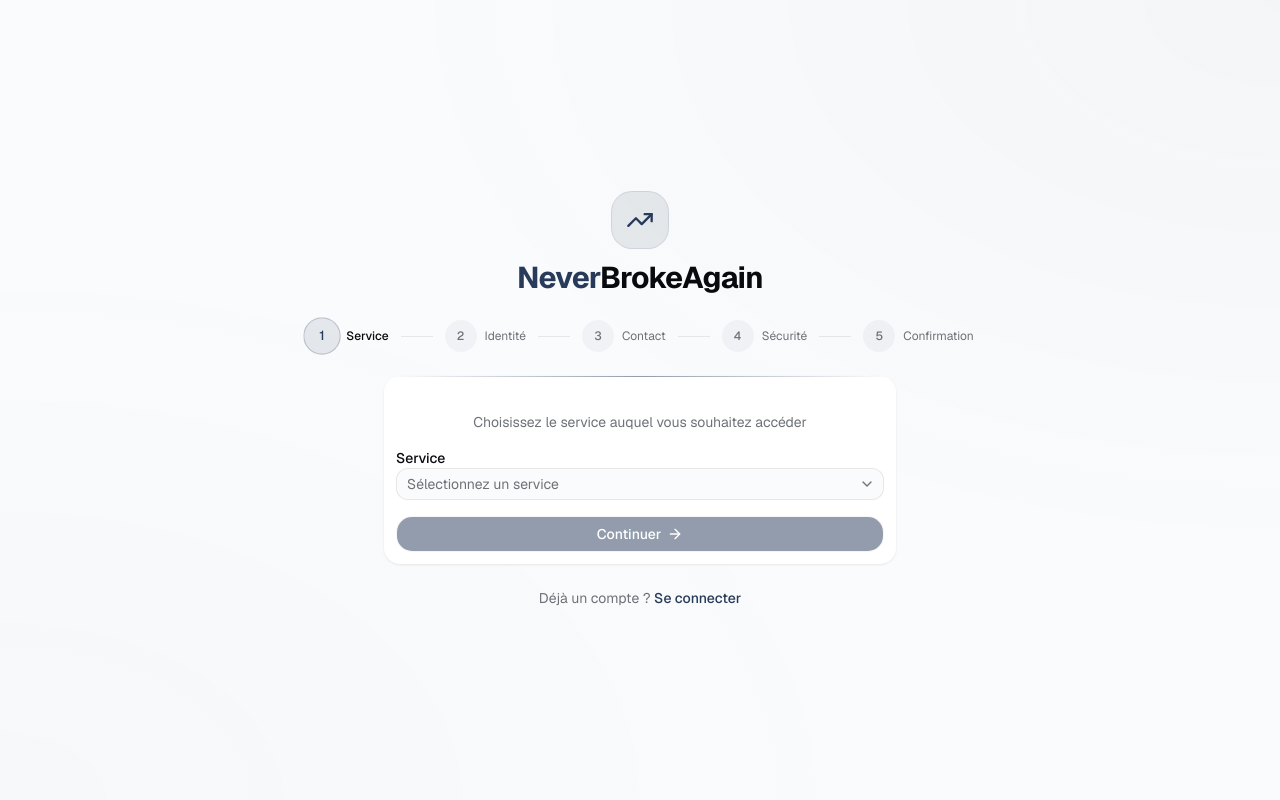
Scenario: Register Wizard › shows confirmation card when a plan is selected
Click the dropdown.
click(483, 484)  # box left=396, top=468, right=884, bottom=500
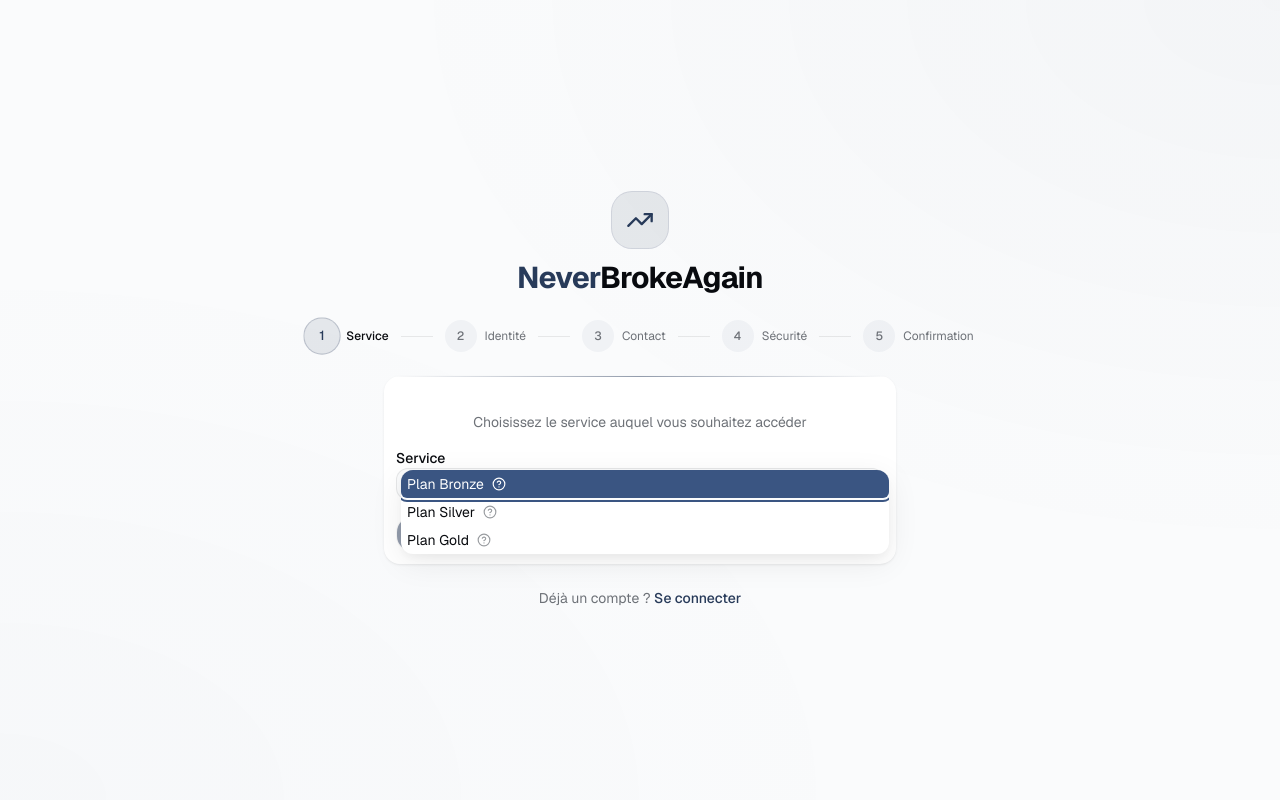
Click the option "Plan Bronze".
click(445, 484)  # box left=401, top=470, right=889, bottom=498
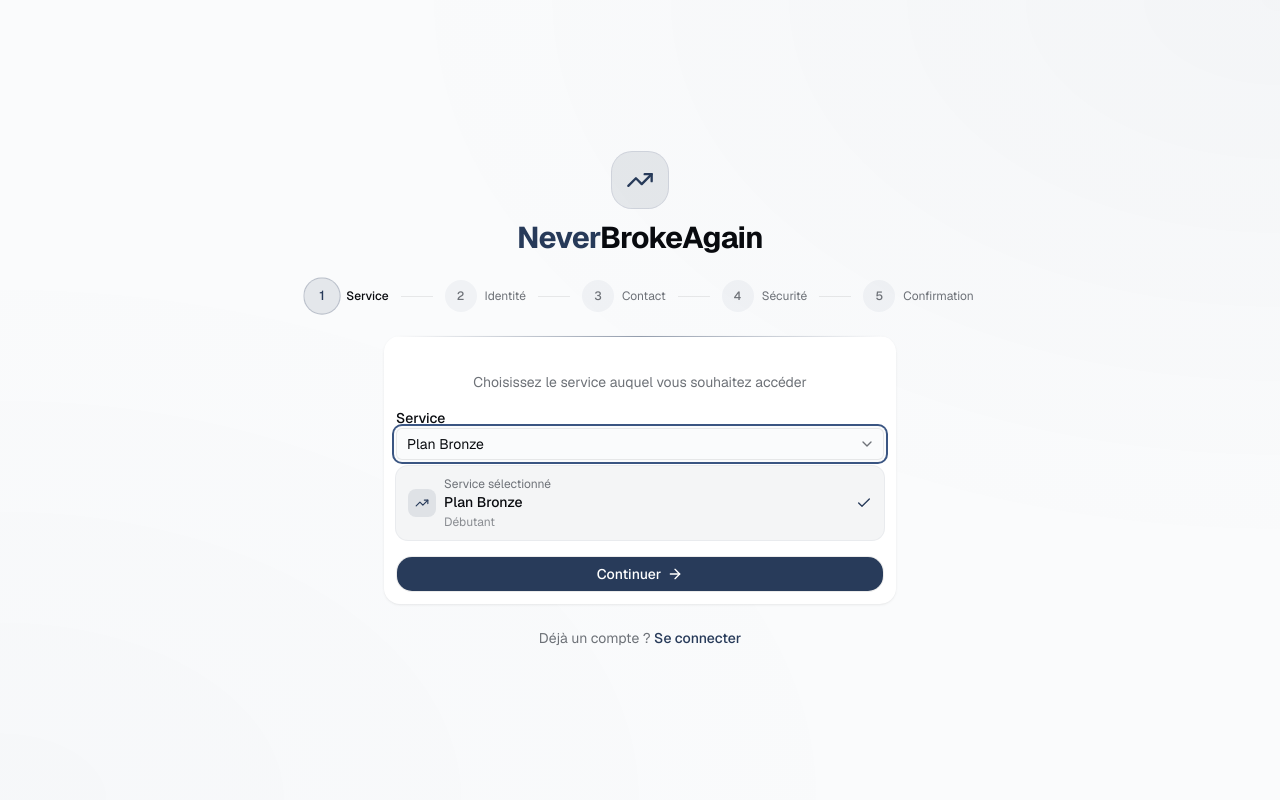
Expected: the text "Service sélectionné" is shown, left=444, top=476, right=551, bottom=492
Expected: the text "Plan Bronze" below "Service sélectionné" is shown, left=444, top=493, right=523, bottom=511
Expected: the button "Continuer" is enabled, left=396, top=556, right=884, bottom=592
